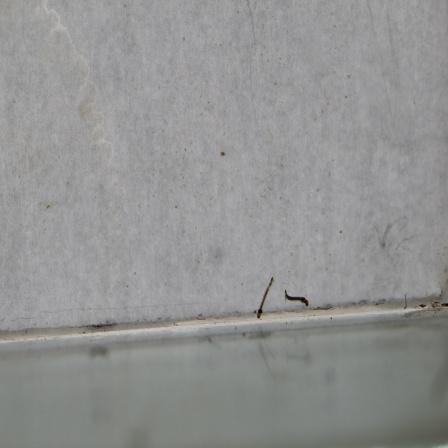Jentik-Nyamuk: (254, 274, 276, 324), (281, 287, 313, 310)
